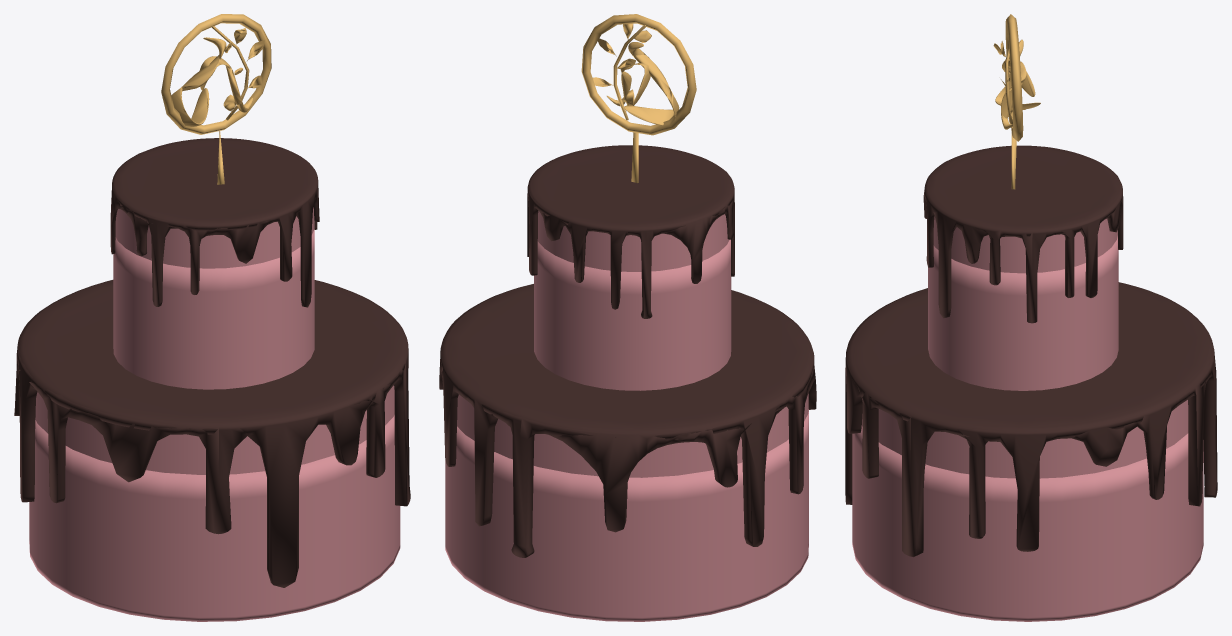
Rendered from 2-tier-blush-ganache-ring.glb.
3 views of the same model, side by side, from view 1: azimuth 30°, elevation 25°; view 2: azimuth 150°, elevation 25°; view 3: azimuth 270°, elevation 25° (orthographic). The views are drawn at different scales.
Parts seen in each view (by area): view 1: Cylinder.023, tHE ICING.004, Cylinder.013, tHE ICING.003, Cylinder.011; view 2: Cylinder.023, tHE ICING.004, Cylinder.013, tHE ICING.003, Cylinder.011; view 3: Cylinder.023, tHE ICING.004, Cylinder.013, tHE ICING.003, Cylinder.011.
Part boxes in pixels (x1,y1,x2,y2): Cylinder.023: (29,385,400,621); tHE ICING.004: (14,280,410,587); Cylinder.013: (113,207,314,389); tHE ICING.003: (110,138,319,307); Cylinder.011: (161,14,271,184); Cylinder.023: (445,393,808,621); tHE ICING.004: (439,284,816,557); Cylinder.013: (534,211,731,390); tHE ICING.003: (527,145,734,318); Cylinder.011: (581,14,696,182); Cylinder.023: (852,400,1203,621); tHE ICING.004: (845,282,1217,557); Cylinder.013: (928,216,1118,390); tHE ICING.003: (923,145,1123,323); Cylinder.011: (993,14,1040,189).
Bounding box in the file's own units: 3.53 × 5.36 × 3.46.
